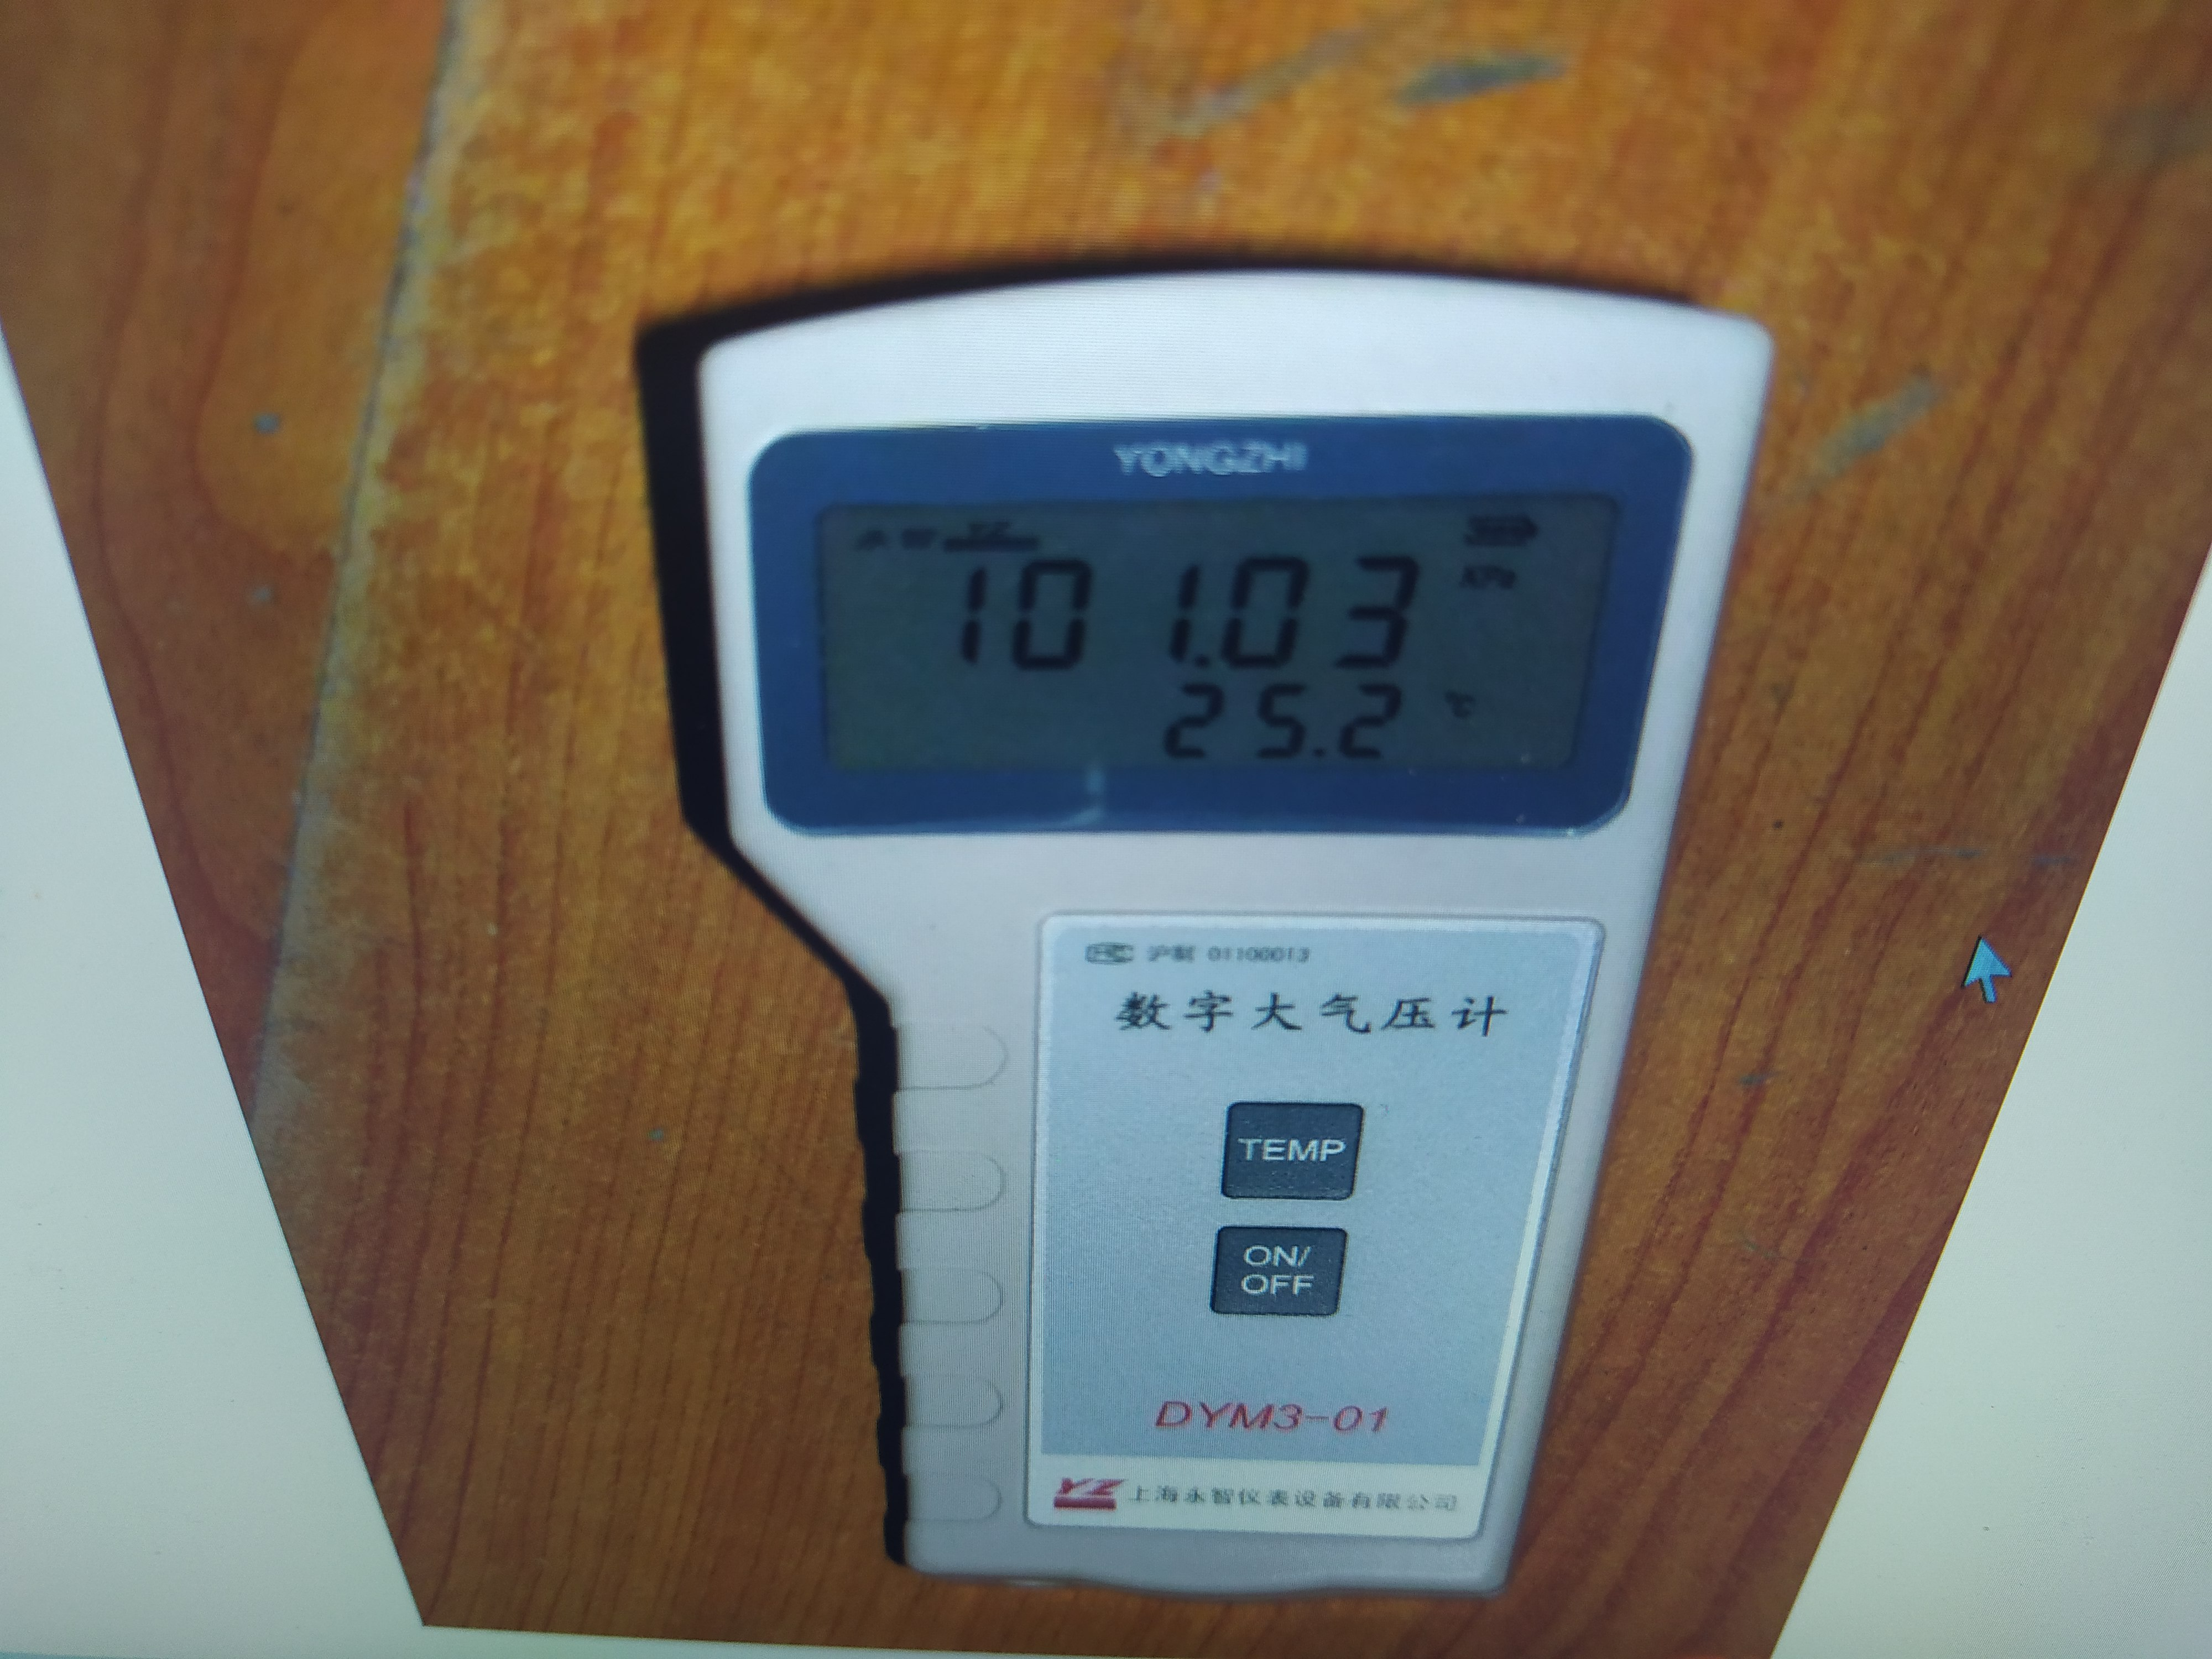.: (1195, 558, 1217, 674), (1305, 683, 1332, 767)
0: (1008, 556, 1092, 680), (1226, 554, 1310, 676)
1: (939, 558, 998, 676), (1155, 556, 1200, 673)
2: (1341, 680, 1397, 770), (1165, 681, 1228, 762)
3: (1334, 554, 1420, 676)
5: (1252, 681, 1310, 763)
